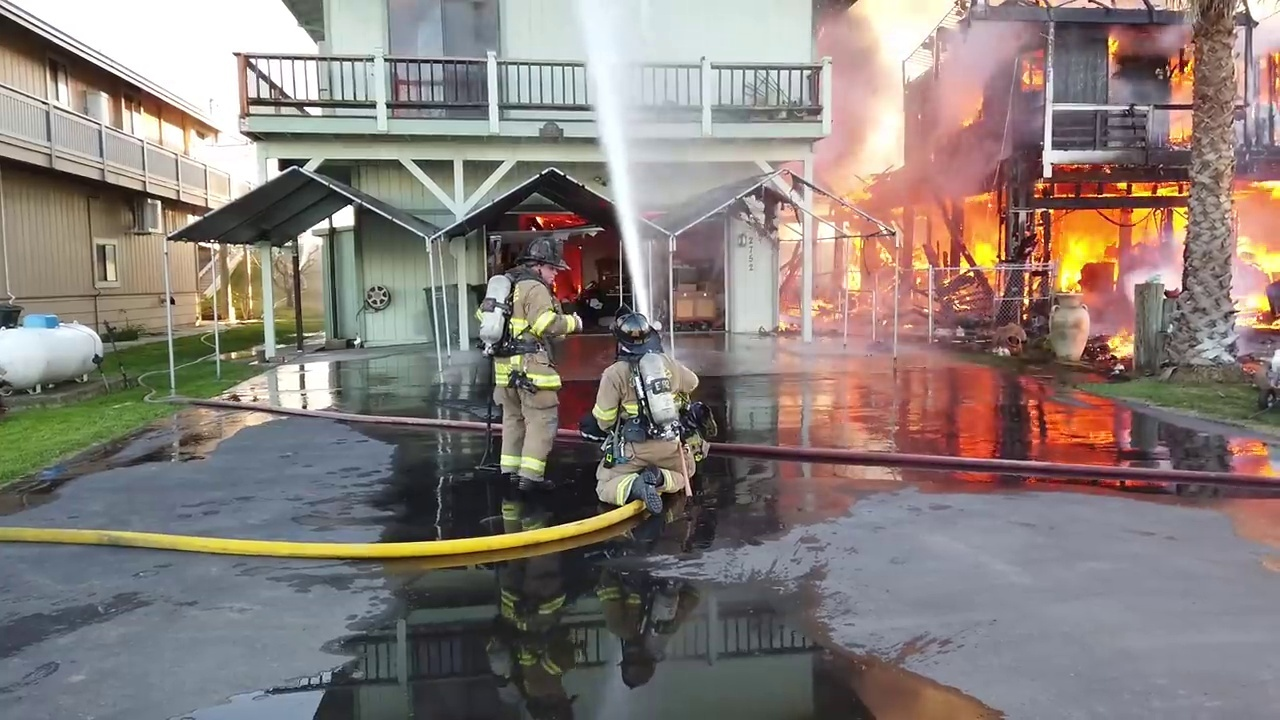fire: (804, 176, 1280, 365), (1234, 161, 1279, 287), (1160, 39, 1202, 146), (512, 214, 586, 233), (1100, 23, 1124, 76), (1019, 49, 1044, 93), (563, 247, 585, 291)
smoke: (904, 49, 1017, 155), (820, 21, 893, 167), (920, 24, 1050, 49), (1131, 23, 1202, 49), (956, 90, 991, 130)
